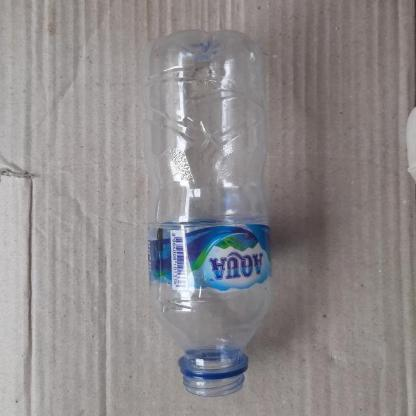Plastic Bottle: (137, 8, 294, 414)
